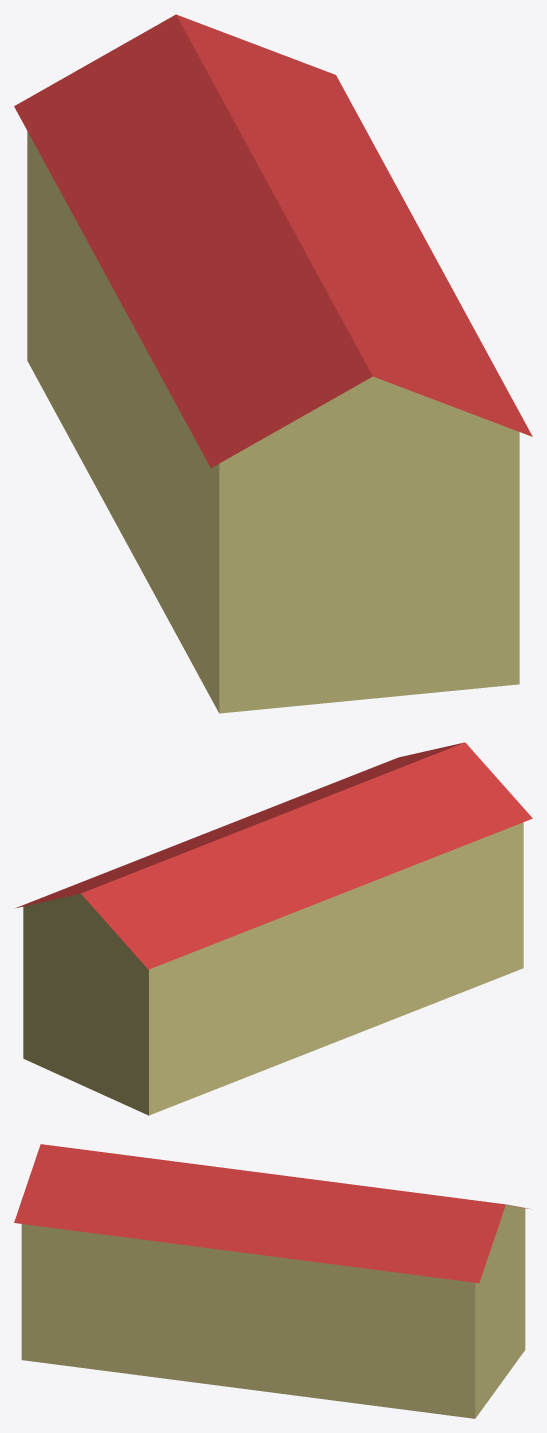
The picture shows the model from 3 angles, top to bottom: view 1: azimuth 30°, elevation 25°; view 2: azimuth 150°, elevation 25°; view 3: azimuth 270°, elevation 25°; orthographic projection. The views are drawn at different scales.
Parts seen in each view (by area): view 1: group_5, group_3, group_4; view 2: group_5, group_3, group_4; view 3: group_5, group_3.
Part boxes in pixels (box(x1,y1,x2,y2)): group_5: box(27, 131, 519, 713); group_3: box(14, 14, 532, 466); group_4: box(125, 14, 372, 467); group_5: box(23, 822, 523, 1115); group_3: box(15, 742, 530, 969); group_4: box(81, 742, 532, 916); group_5: box(21, 1204, 525, 1418); group_3: box(14, 1144, 507, 1283).
Bounding box in the file's own units: 25.86 × 42.25 × 16.26.
